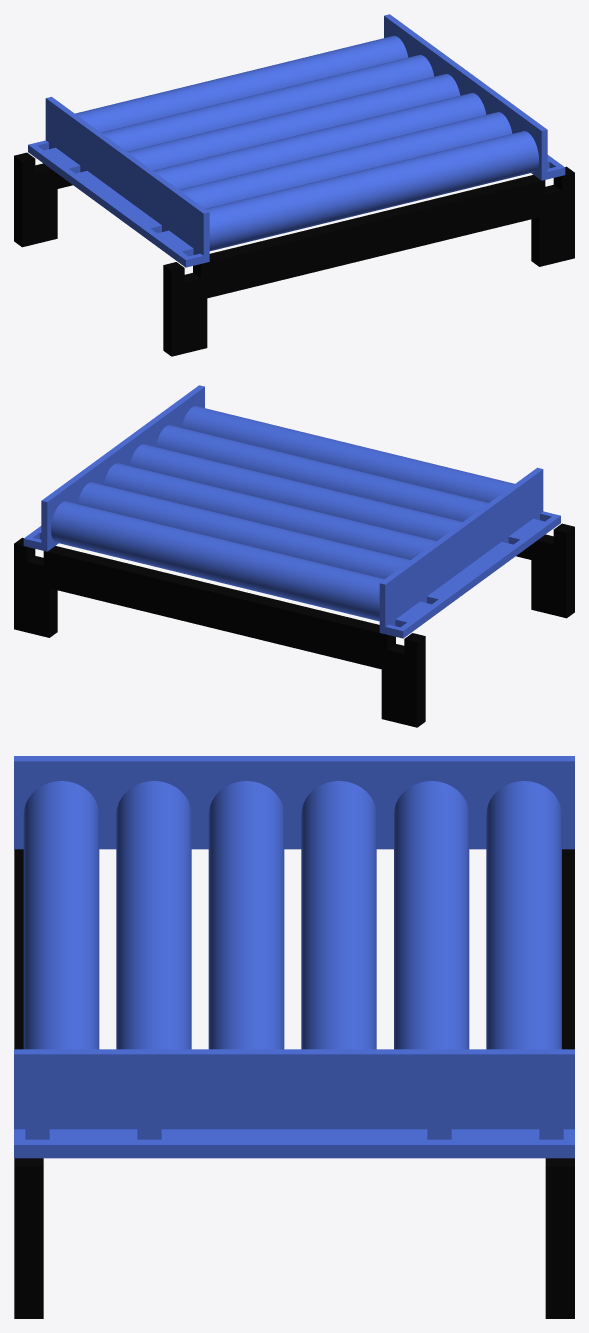
The model's file is rollers.dae.
3 views of the same model, one above another, from view 1: azimuth 30°, elevation 25°; view 2: azimuth 150°, elevation 25°; view 3: azimuth 270°, elevation 25° (orthographic). The views are drawn at different scales.
Visible parts, largest first — view 1: Roller Main, Pata Rollers.001, Pata Rollers; view 2: Roller Main, Pata Rollers, Pata Rollers.001; view 3: Roller Main, Pata Rollers, Pata Rollers.001.
Boxes of the visible parts, box(x1,y1,x2,y2) form: Roller Main: box(28, 14, 565, 267); Pata Rollers.001: box(163, 166, 574, 356); Pata Rollers: box(14, 152, 72, 247); Roller Main: box(23, 385, 560, 638); Pata Rollers: box(14, 537, 425, 727); Pata Rollers.001: box(516, 523, 574, 618); Roller Main: box(14, 756, 574, 1158); Pata Rollers: box(545, 849, 574, 1318); Pata Rollers.001: box(14, 849, 43, 1318).
Bounding box in the file's own units: 170 × 115 × 54.53.
